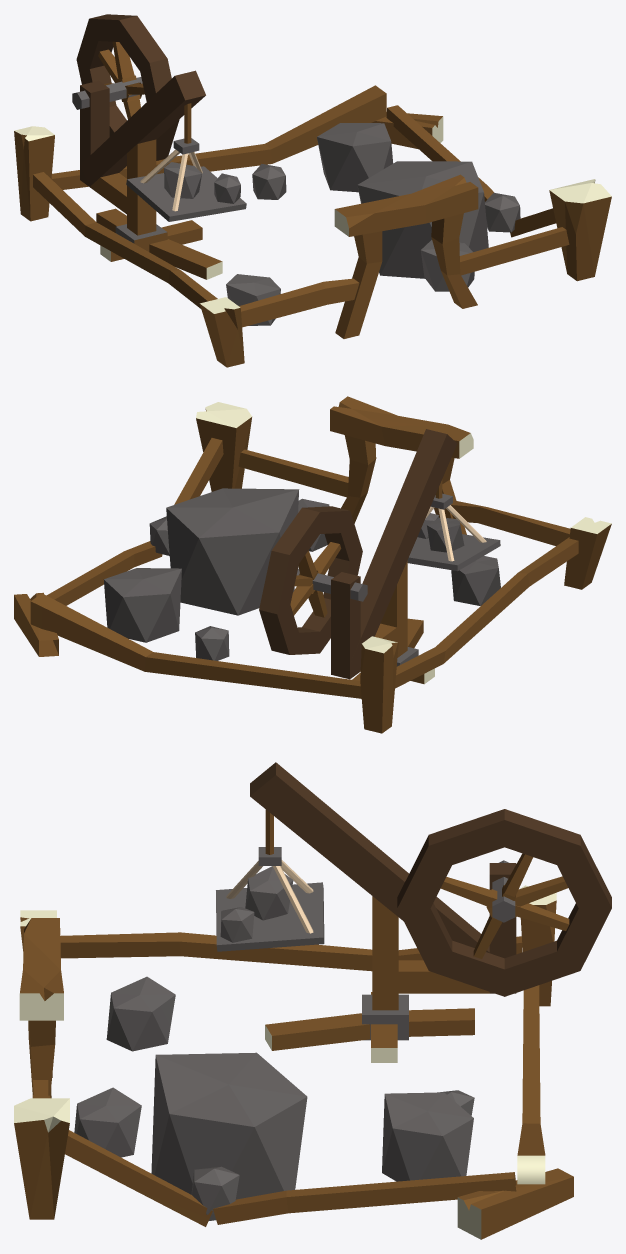
Rendered from Stone_storage_3.fbx.
3 renders of one model, top to bottom at view 1: azimuth 30°, elevation 25°; view 2: azimuth 150°, elevation 25°; view 3: azimuth 270°, elevation 25°, orthographic. The views are drawn at different scales.
Visible parts, largest first — view 1: Stone_1.014; view 2: Stone_1.014; view 3: Stone_1.014.
Part boxes in pixels (bbox=[...]): Stone_1.014: bbox=[14, 14, 611, 367]; Stone_1.014: bbox=[14, 396, 611, 733]; Stone_1.014: bbox=[14, 762, 611, 1239].
Bounding box in the file's own units: 6 × 6 × 3.15.
